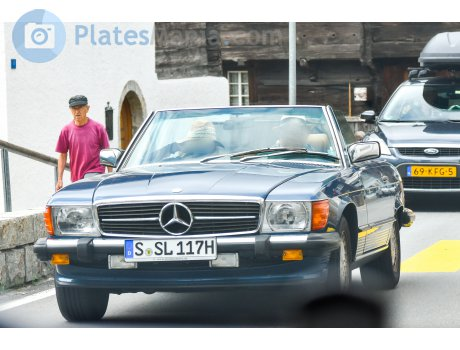License Plates: (136, 241, 213, 256)
